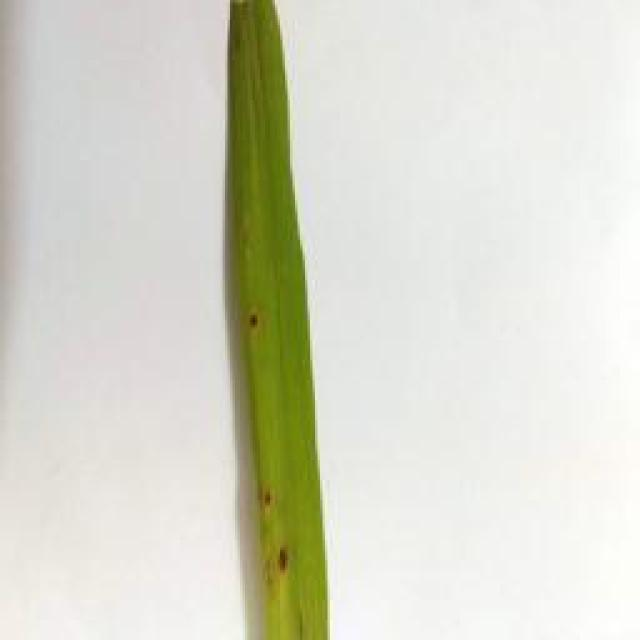Brown_Spot: (262, 530, 311, 586), (234, 295, 274, 346), (252, 471, 288, 526)
